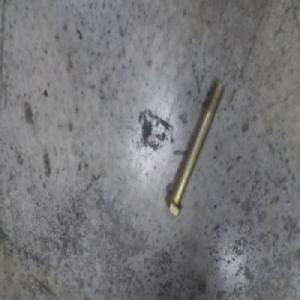Bolt: (164, 80, 223, 216)
